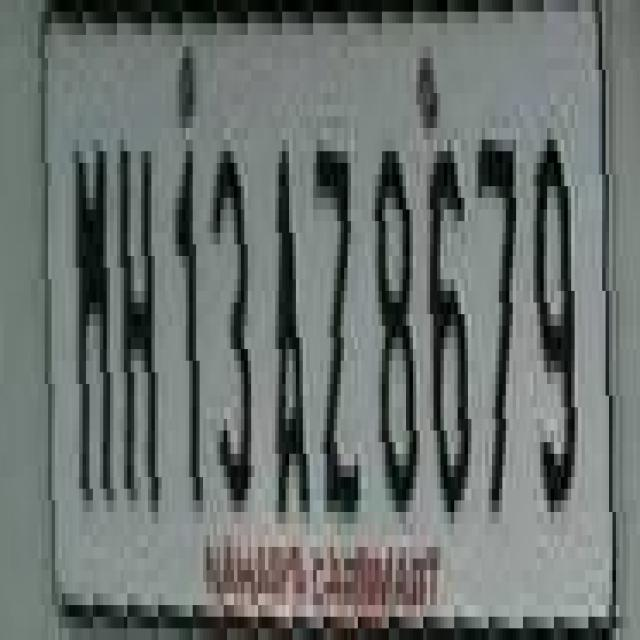plate: (38, 0, 633, 605)
